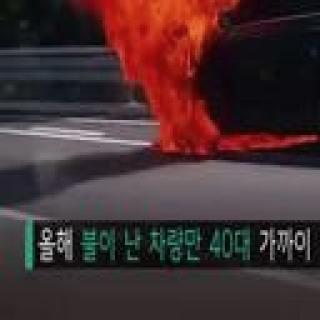fire: (93, 0, 241, 157)
